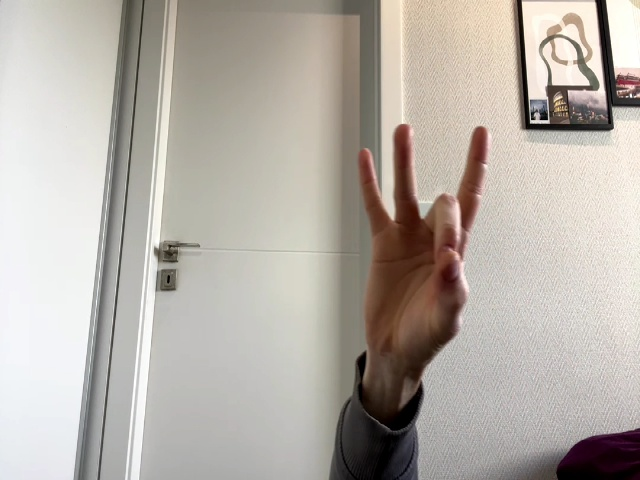G: (357, 124, 489, 354)
